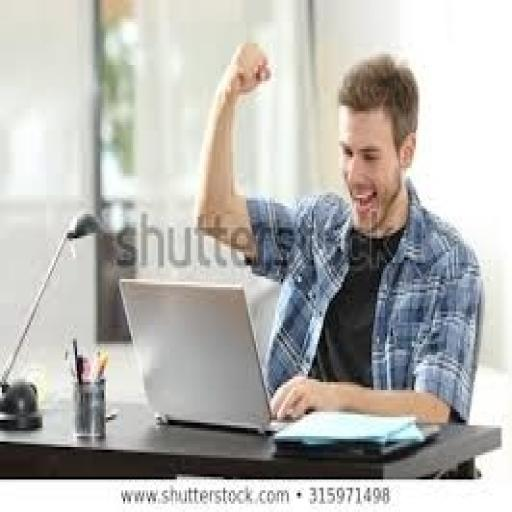using_laptop: (118, 274, 298, 436)
